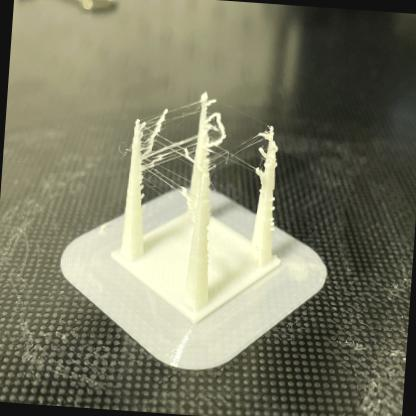fail: (138, 100, 197, 192), (210, 109, 272, 189)
